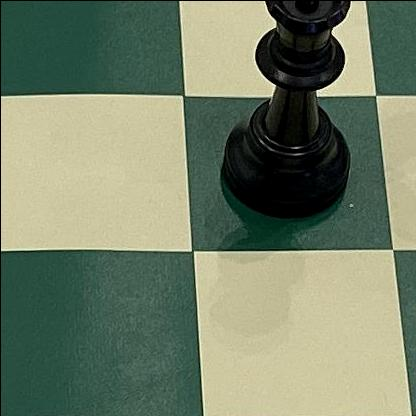black-queen: (217, 0, 353, 223)
